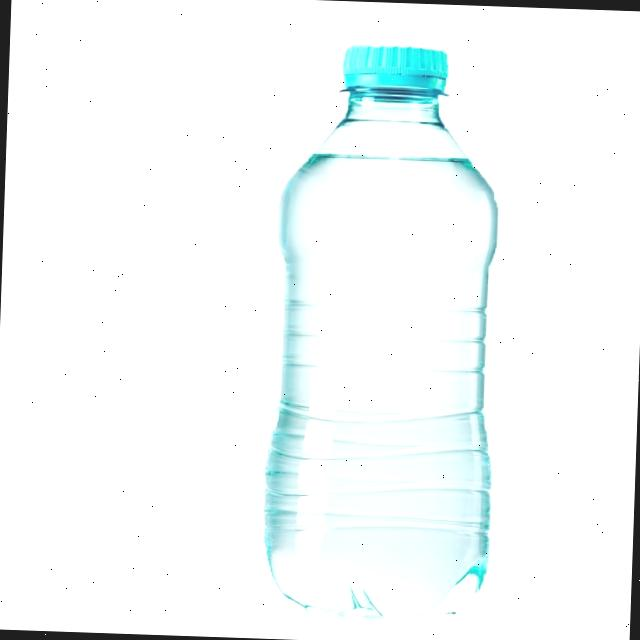bottle: (248, 28, 514, 623)
cap: (331, 40, 456, 102)
